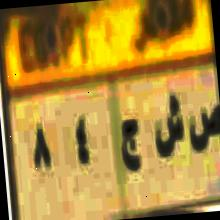4: (72, 114, 93, 169)
8: (30, 118, 54, 180)
jeem: (117, 114, 144, 179)
saad: (186, 99, 220, 157)
sheen: (148, 86, 190, 170)
